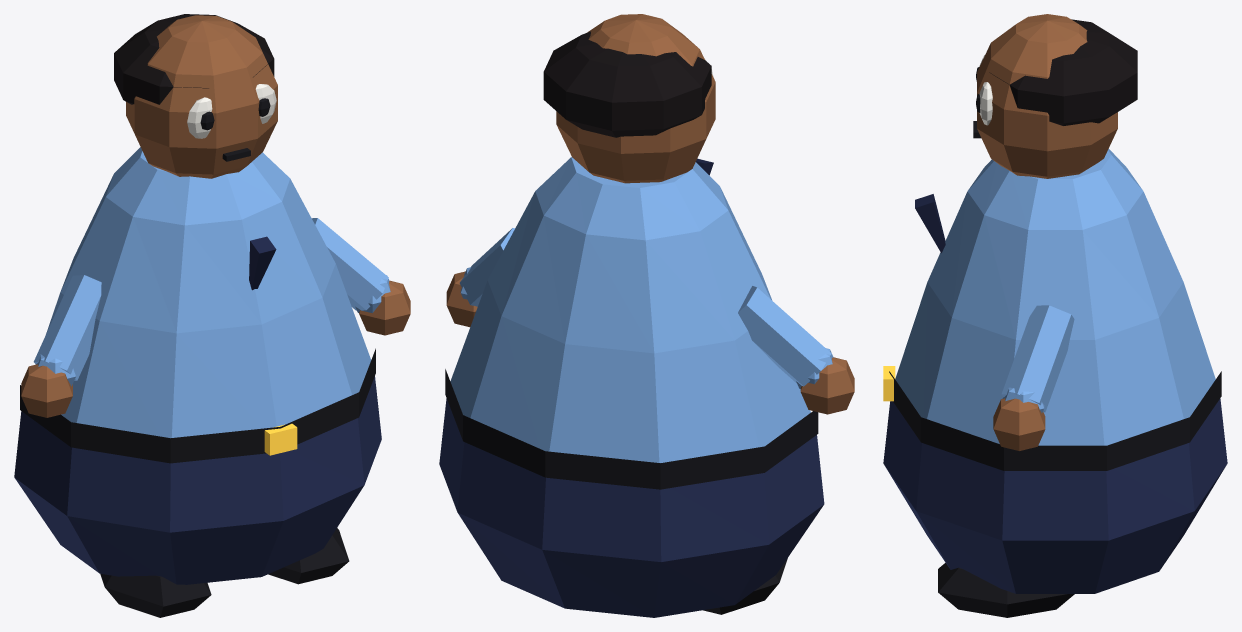
The model's file is npc_invitado_b.glb.
3 views of the same model, side by side, from view 1: azimuth 30°, elevation 25°; view 2: azimuth 150°, elevation 25°; view 3: azimuth 270°, elevation 25° (orthographic). The views are drawn at different scales.
Visible parts, largest first — view 1: body_costume_blue, body_costume_navy, head_skin_cacao, body_black, arms_costume_blue, legs_black, arms_skin_cacao, head_hair_black, face_white, body_costume_tie, body_gold, face_black; view 2: body_costume_blue, body_costume_navy, head_hair_black, head_skin_cacao, body_black, arms_costume_blue, arms_skin_cacao, legs_black; view 3: body_costume_blue, body_costume_navy, head_skin_cacao, body_black, head_hair_black, arms_costume_blue, legs_black, arms_skin_cacao, body_costume_tie, face_white.
Boxes of the visible parts, x1,y1,x2,y2 form: body_costume_blue: [46, 147, 371, 438]; body_costume_navy: [14, 376, 381, 584]; head_skin_cacao: [126, 15, 277, 178]; body_black: [20, 348, 375, 463]; arms_costume_blue: [33, 218, 390, 386]; legs_black: [100, 528, 349, 617]; arms_skin_cacao: [21, 280, 410, 417]; head_hair_black: [114, 14, 274, 104]; face_white: [187, 84, 276, 138]; body_costume_tie: [249, 236, 276, 290]; body_gold: [264, 423, 297, 455]; face_black: [200, 98, 270, 161]; body_costume_blue: [450, 157, 810, 462]; body_costume_navy: [439, 398, 824, 617]; head_hair_black: [543, 31, 711, 137]; head_skin_cacao: [556, 14, 715, 183]; body_black: [445, 369, 818, 489]; arms_costume_blue: [459, 228, 833, 388]; arms_skin_cacao: [446, 271, 854, 414]; legs_black: [703, 558, 787, 614]; body_costume_blue: [895, 149, 1215, 445]; body_costume_navy: [883, 398, 1227, 593]; head_skin_cacao: [977, 14, 1117, 178]; body_black: [889, 371, 1221, 470]; head_hair_black: [989, 19, 1137, 125]; arms_costume_blue: [1001, 305, 1074, 412]; legs_black: [938, 563, 1074, 617]; arms_skin_cacao: [993, 398, 1045, 450]; body_costume_tie: [915, 194, 945, 253]; face_white: [979, 55, 992, 125].
Size of the model in its own units: 1.13 by 1.53 by 0.86.
